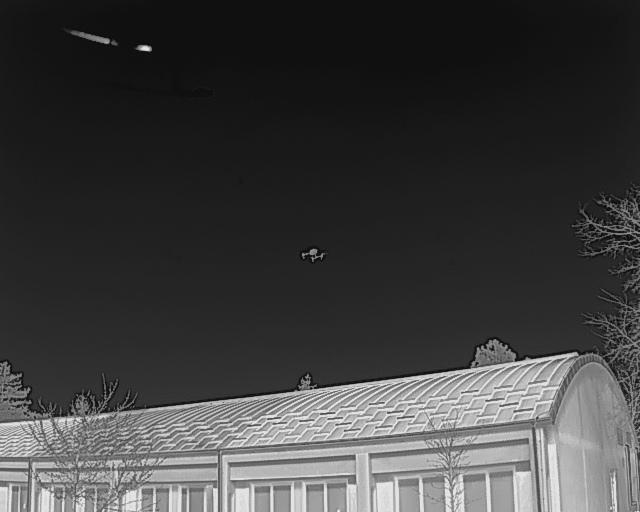drone: (299, 243, 329, 272)
